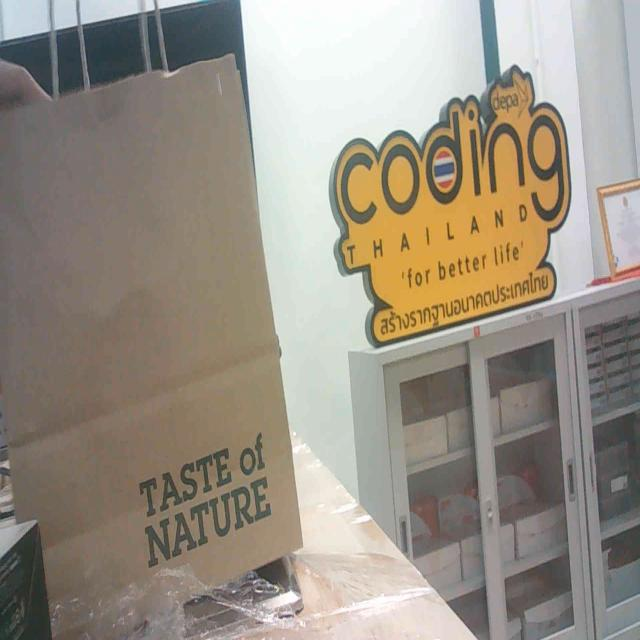bag: (0, 64, 294, 598)
